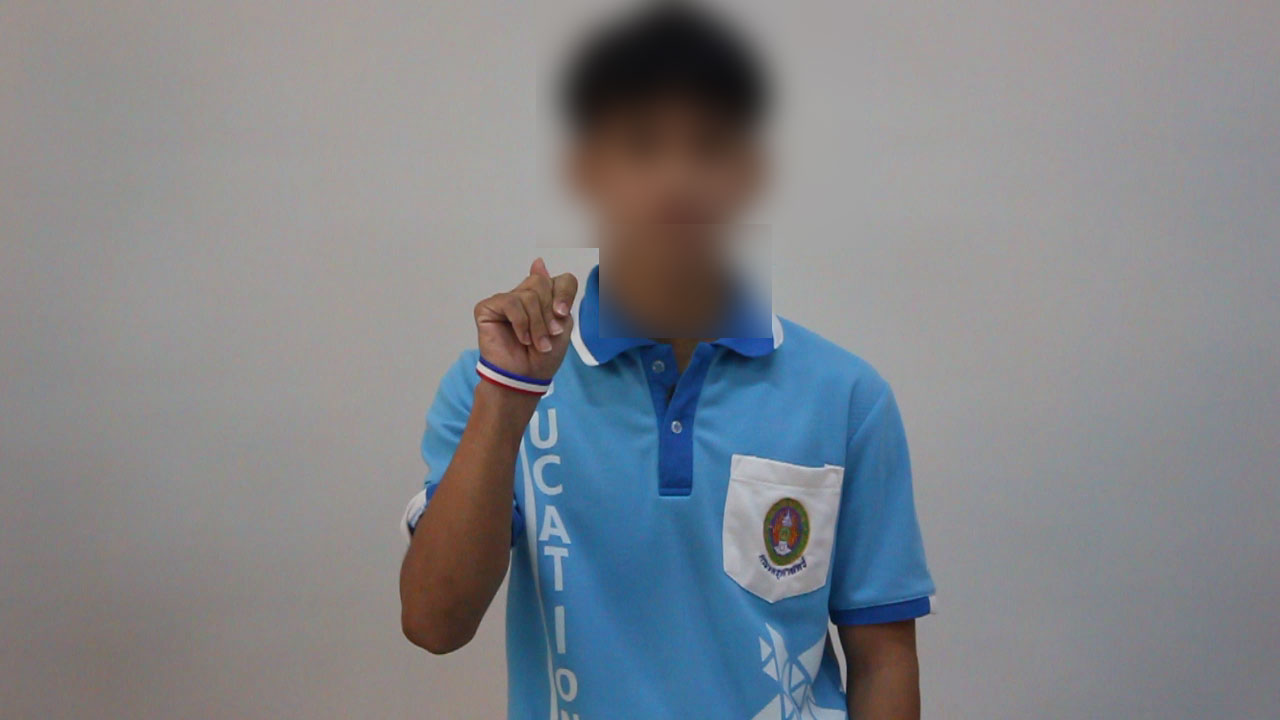tor: (464, 247, 595, 416)
